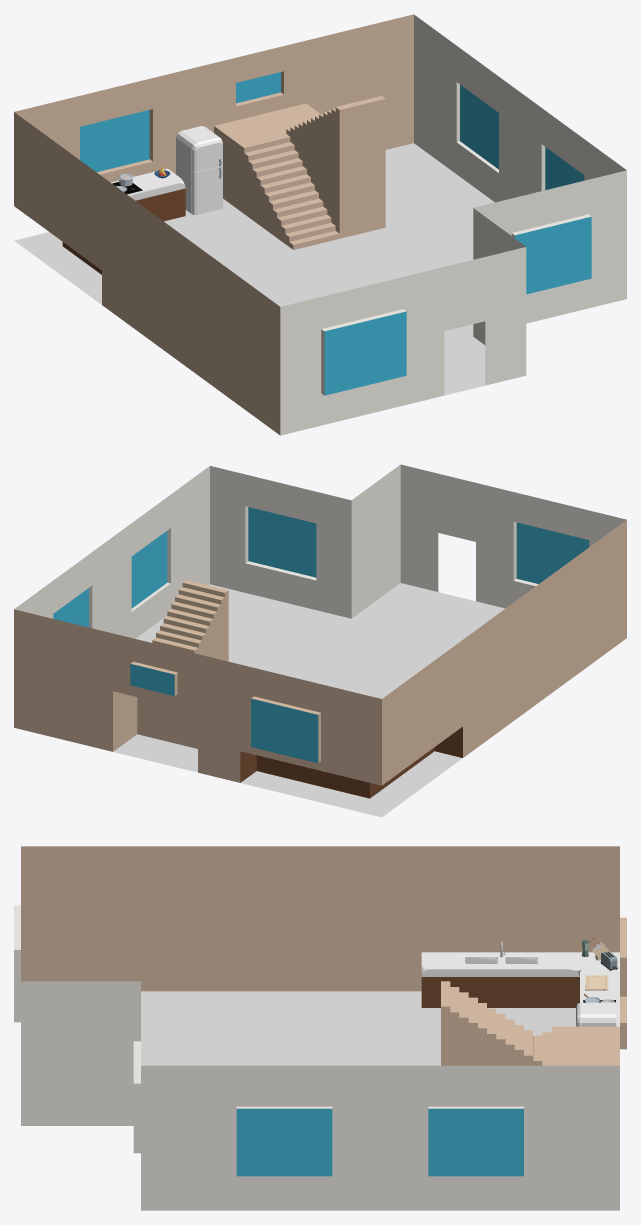
File: insideHouse5.glb
The picture shows the model from 3 angles, top to bottom: view 1: azimuth 30°, elevation 25°; view 2: azimuth 150°, elevation 25°; view 3: azimuth 270°, elevation 25°; orthographic projection. The views are drawn at different scales.
Visible parts, largest first — view 1: wall_north_west, wall_east_south, floor, windows, fridge; view 2: wall_north_west, wall_east_south, floor, windows; view 3: wall_north_west, wall_east_south, floor, windows, fridge.
Part boxes in pixels (x1,y1,x2,y2): wall_north_west: [14, 14, 413, 435]; wall_east_south: [280, 14, 626, 435]; floor: [14, 143, 494, 395]; windows: [80, 72, 591, 395]; fridge: [176, 126, 222, 214]; wall_north_west: [14, 520, 626, 798]; wall_east_south: [14, 464, 626, 638]; floor: [113, 583, 505, 817]; windows: [53, 507, 589, 763]; wall_north_west: [21, 846, 626, 1065]; wall_east_south: [14, 905, 619, 1210]; floor: [141, 991, 575, 1065]; windows: [236, 1108, 523, 1176]; fridge: [576, 1002, 616, 1026].
Size of the model in its own units: 13.12 by 4 by 15.36.
37 materials, 1 textured.
